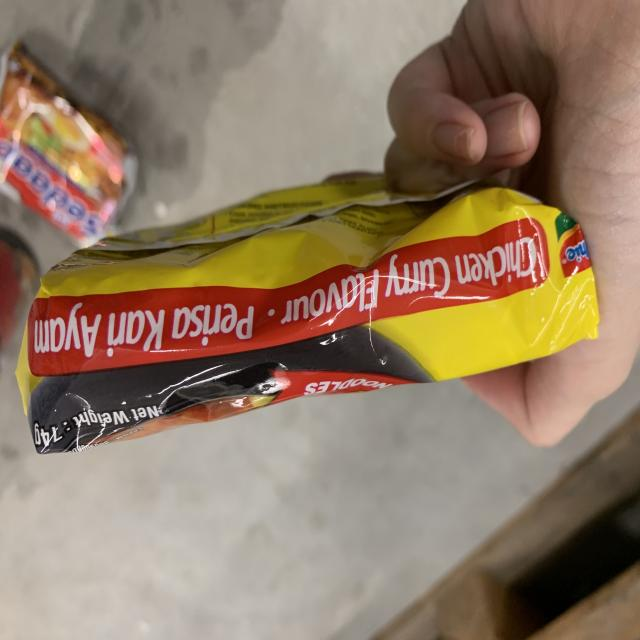object_name: (37, 216, 592, 403)
